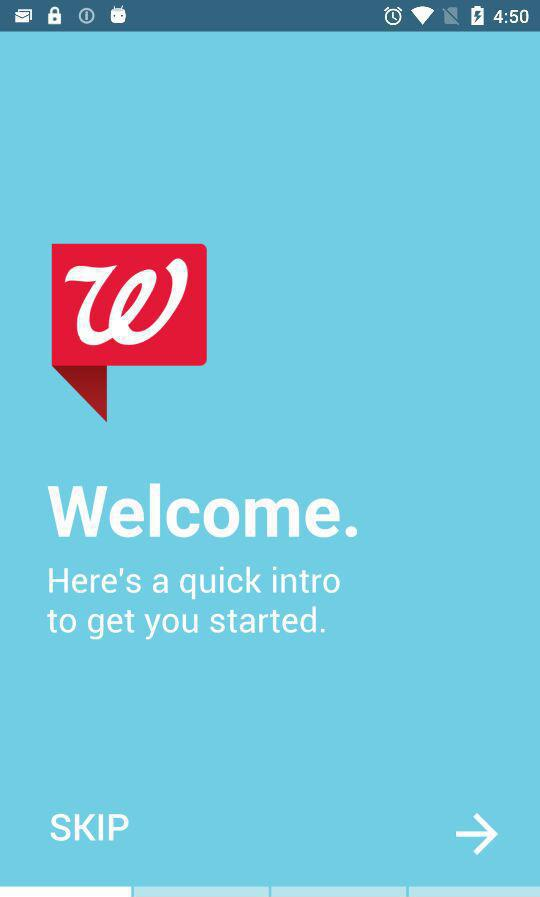Icon: (455, 813, 498, 856)
Image: (51, 244, 208, 423)
Text: (47, 567, 341, 640), (48, 482, 358, 539), (51, 812, 130, 843)
UpperTaskBar: (1, 1, 540, 33)
